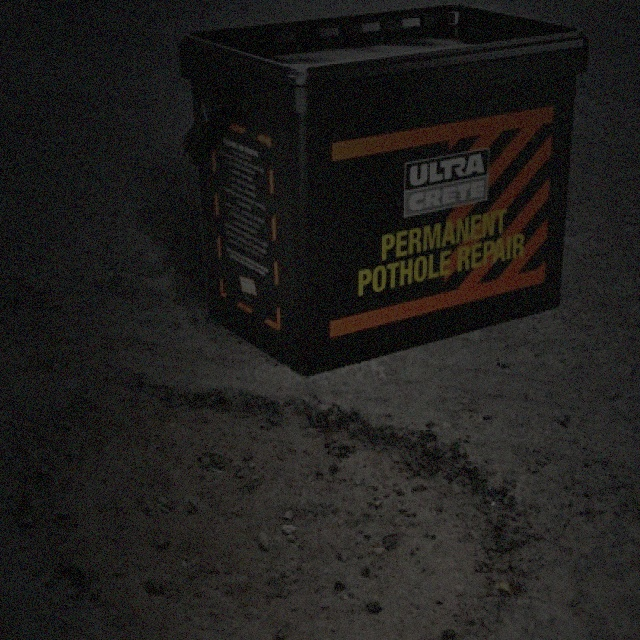pothole: (44, 346, 518, 619)
